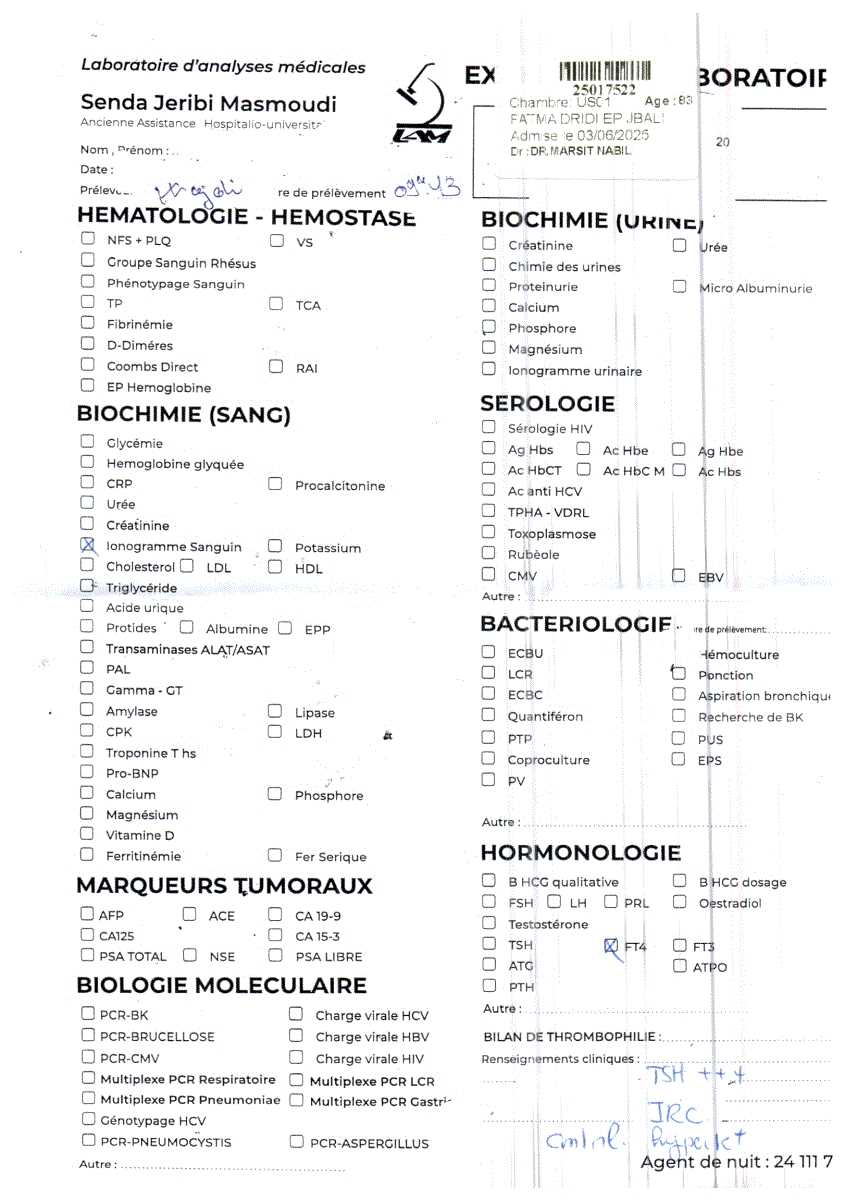zone_analyses: (54, 212, 825, 1173)
zone_date: (576, 126, 657, 140)
zone_patient: (511, 108, 671, 123)
zone_prescripteur: (505, 142, 638, 160)
